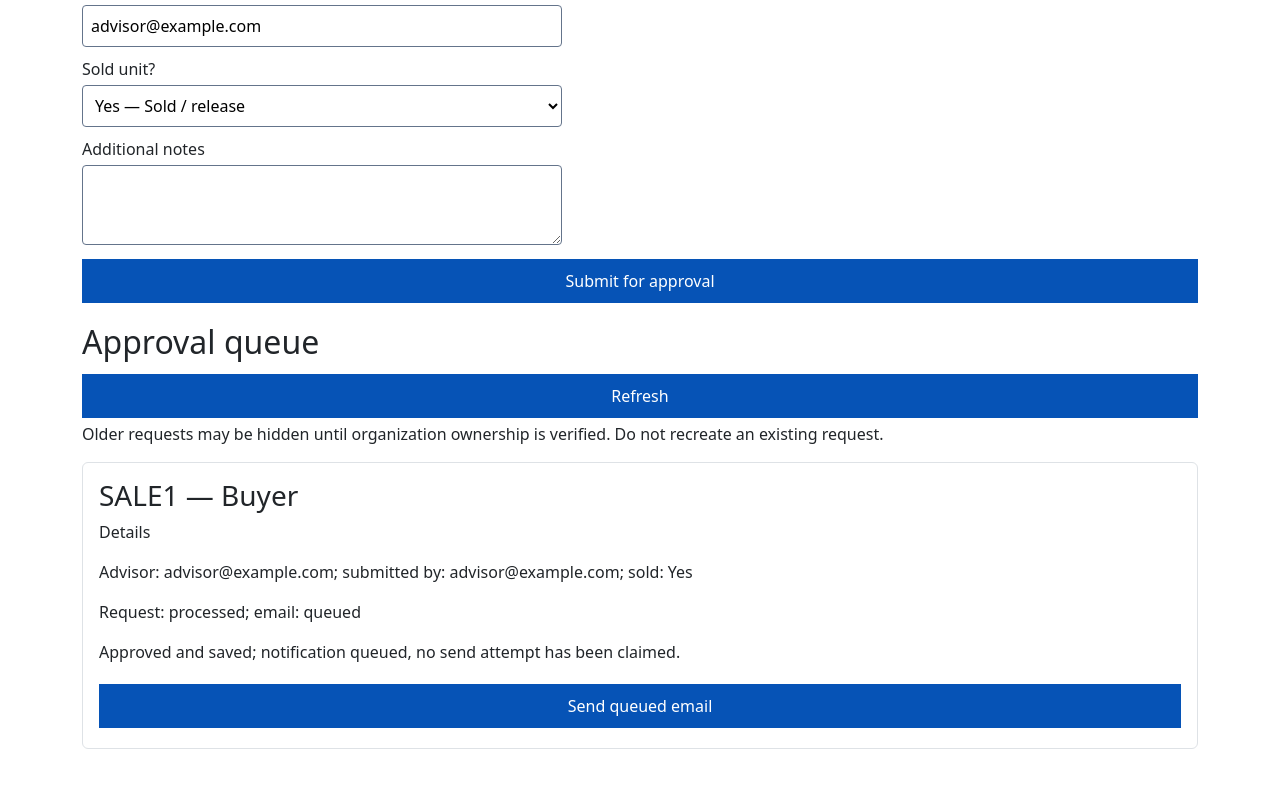
Test: unchanged queued response explains preflight failure instead of silently succeeding
(page scrolled)
Click the button "Send queued email" at (640,706), box [99,684,1181,728]
(page scrolled)
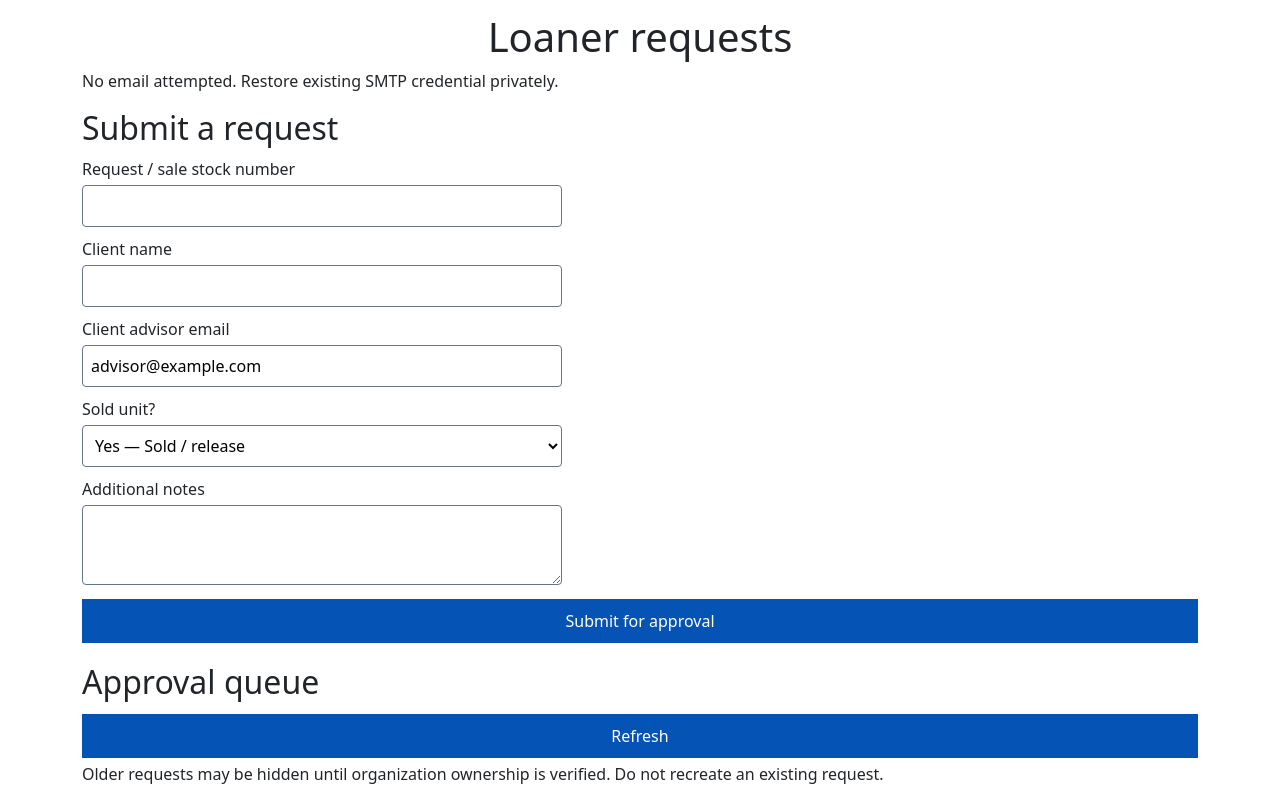
Result: the text "No email attempted. Restore existing SMTP credential privately." is shown at [82,70,558,92]
